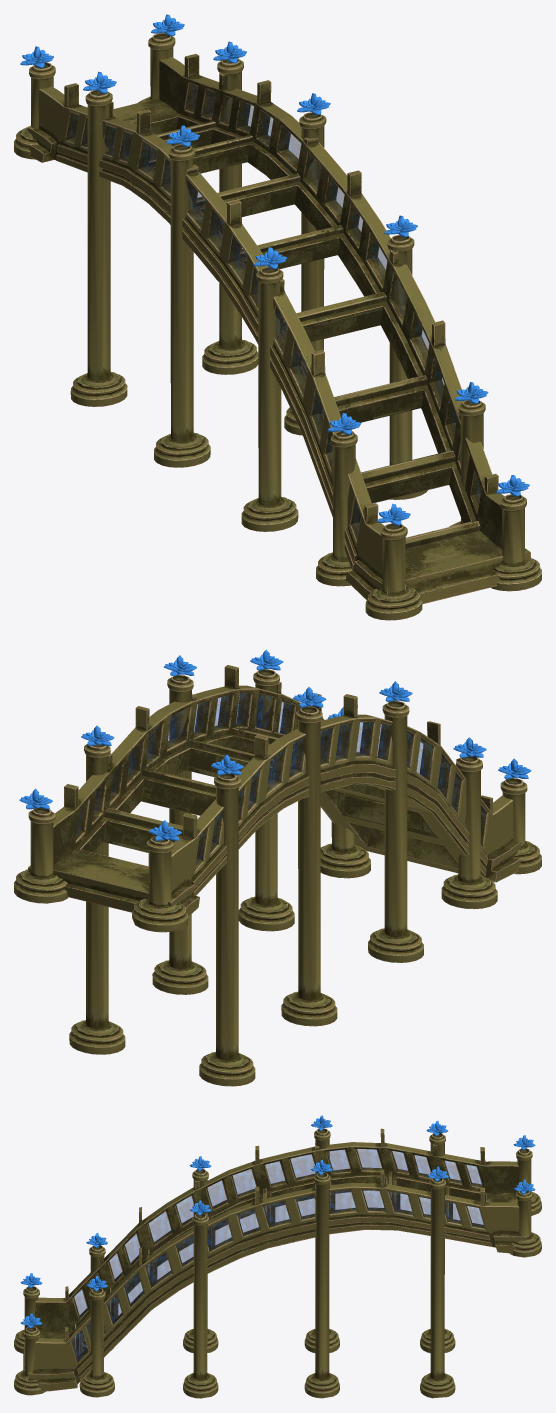
The model's file is bridgeBentNoGlass_lowPolyCompressed.glb.
3 views of the same model, one above another, from view 1: azimuth 30°, elevation 25°; view 2: azimuth 150°, elevation 25°; view 3: azimuth 270°, elevation 25° (orthographic). The views are drawn at different scales.
Visible parts, largest first — view 1: Mesh_168.005; view 2: Mesh_168.005; view 3: Mesh_168.005.
Part boxes in pixels (box(x1,y1,x2,y2)): Mesh_168.005: box(14, 14, 541, 620); Mesh_168.005: box(14, 649, 541, 1086); Mesh_168.005: box(14, 1115, 541, 1398).
Size of the model in its own units: 1.35 by 2.34 by 4.87.
4 materials, 3 textured.
